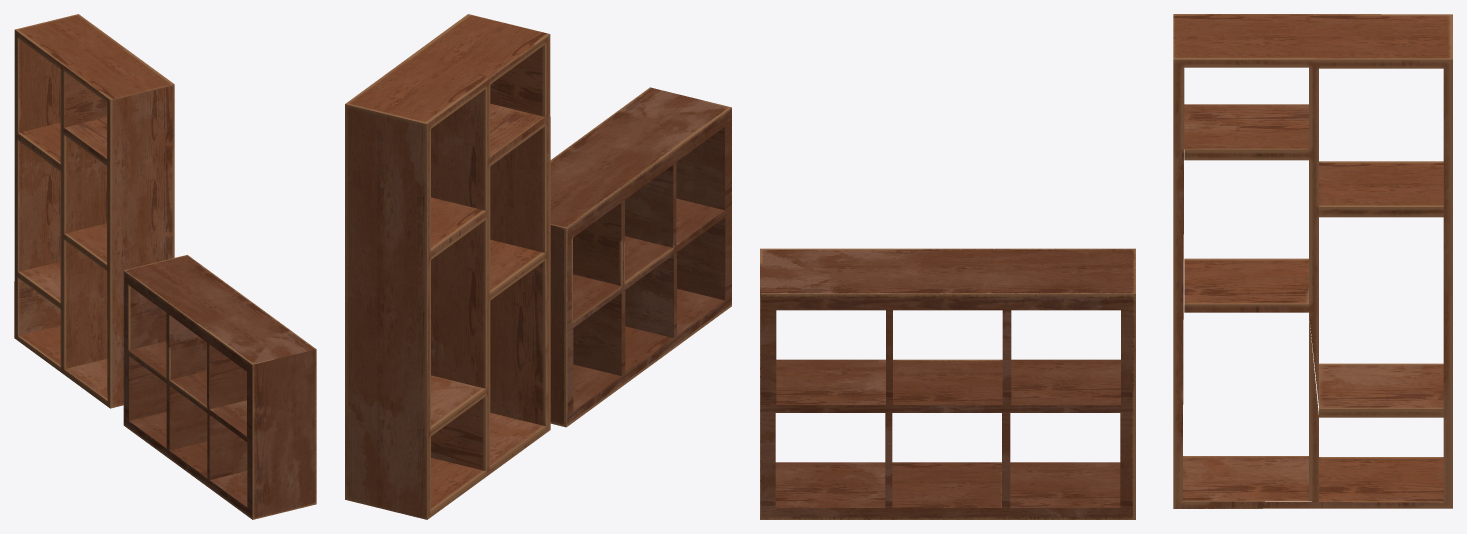
Rendered from Shelves.glb.
3 views of the same model, side by side, from view 1: azimuth 30°, elevation 25°; view 2: azimuth 150°, elevation 25°; view 3: azimuth 270°, elevation 25° (orthographic). The views are drawn at different scales.
Parts seen in each view (by area): view 1: shelves_2, shelves_1; view 2: shelves_2, shelves_1; view 3: shelves_1, shelves_2.
Boxes of the visible parts, bbox=[...] form: shelves_2: bbox=[14, 14, 174, 408]; shelves_1: bbox=[123, 255, 316, 519]; shelves_2: bbox=[345, 14, 550, 519]; shelves_1: bbox=[550, 87, 731, 427]; shelves_1: bbox=[760, 248, 1135, 519]; shelves_2: bbox=[1173, 14, 1452, 508].
Bounding box in the file's own units: 0.2504 × 1.17 × 1.6.
Materials: 2 (2 with a texture image).
